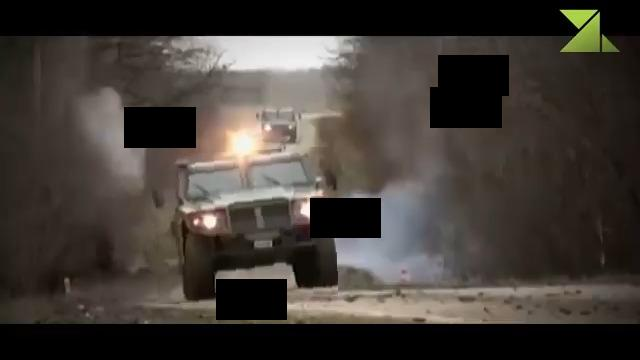MIL_HMMWV: (152, 149, 337, 302), (256, 106, 301, 143)
